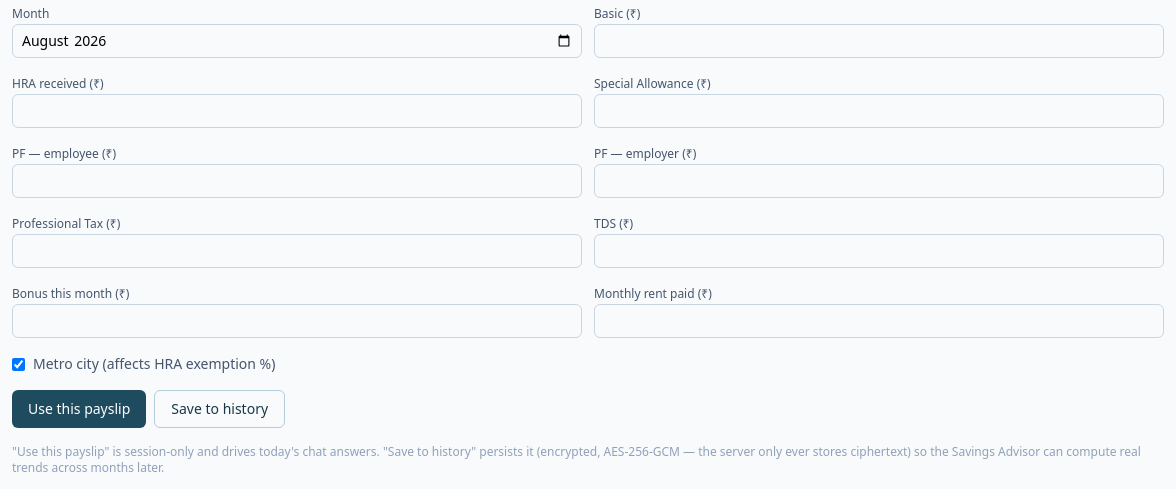
it: ManualEntryForm › Use this payslip › editing a field after using it resets the confirmation back to the plain label
Click the button "Use this payslip": x=79, y=409 [12,390,146,428]
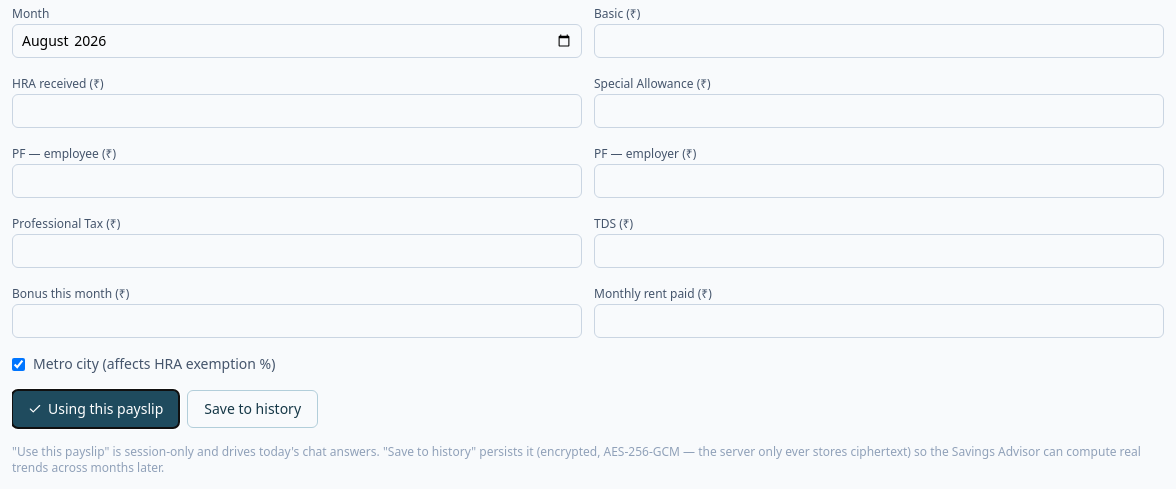
Check: the button "Using this payslip" is shown, box [12,390,179,428]
In the number field labelled "Basic (₹)": x=879, y=41 [594,24,1164,58], type "1"
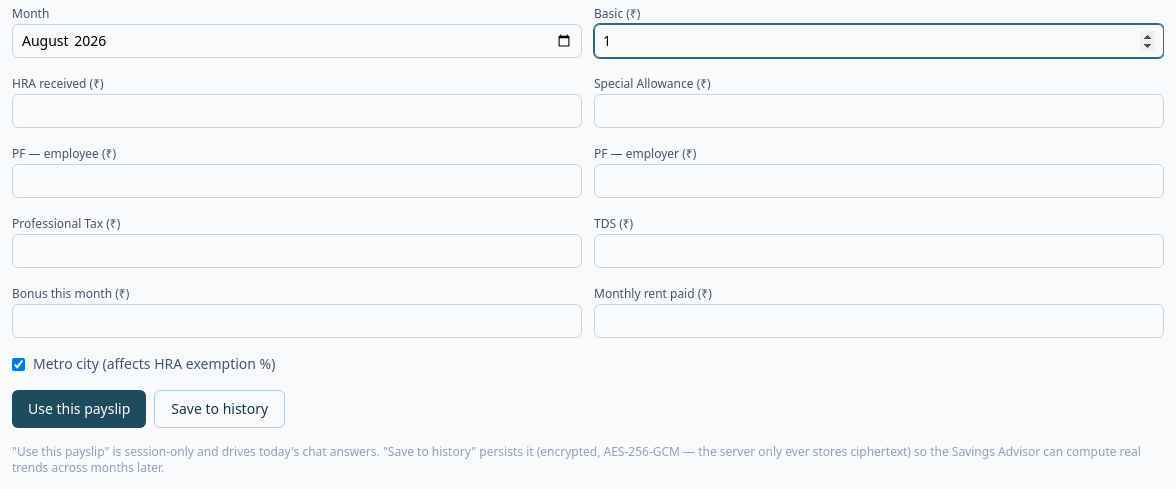
Check: the button "Use this payslip" is shown, box [12,390,146,428]
